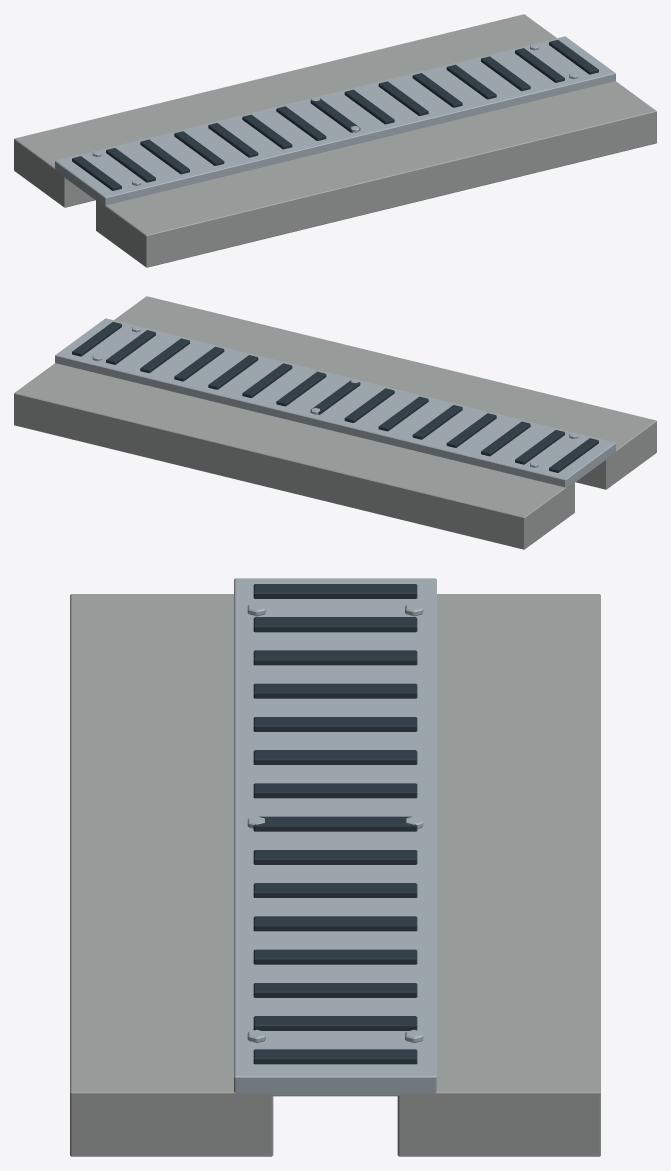
Rendered from b13_sidewalk_sliding_expansion_cover.glb.
3 views of the same model, one above another, from view 1: azimuth 30°, elevation 25°; view 2: azimuth 150°, elevation 25°; view 3: azimuth 270°, elevation 25° (orthographic). The views are drawn at different scales.
Visible parts, largest first — view 1: b13_sidewalk_sliding_expansion_cover; view 2: b13_sidewalk_sliding_expansion_cover; view 3: b13_sidewalk_sliding_expansion_cover.
Part boxes in pixels (box(x1,y1,x2,y2)): b13_sidewalk_sliding_expansion_cover: box(14, 14, 656, 267); b13_sidewalk_sliding_expansion_cover: box(14, 296, 656, 549); b13_sidewalk_sliding_expansion_cover: box(70, 578, 600, 1156).
Size of the model in its own units: 1.8 by 0.148 by 0.81.
